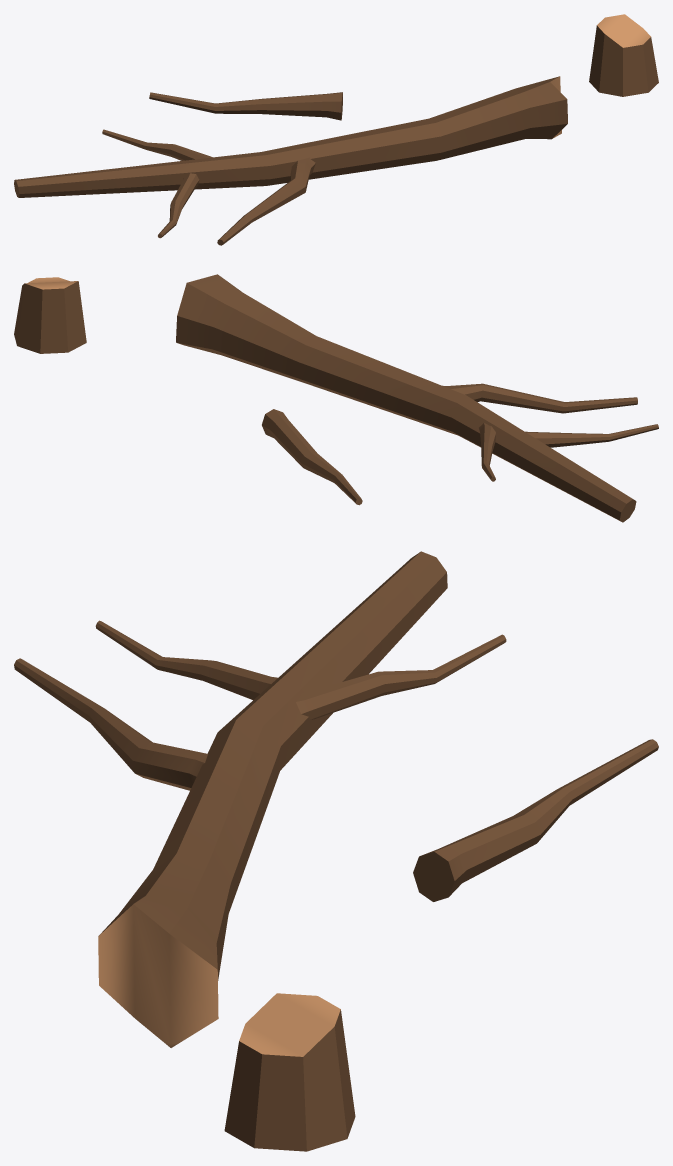
File: prop_deadtree_04.fbx
3 views of the same model, one above another, from view 1: azimuth 30°, elevation 25°; view 2: azimuth 150°, elevation 25°; view 3: azimuth 270°, elevation 25° (orthographic). The views are drawn at different scales.
Visible parts, largest first — view 1: prop_deadtree_04; view 2: prop_deadtree_04; view 3: prop_deadtree_04.
Boxes of the visible parts, box(x1,y1,x2,y2) form: prop_deadtree_04: box(14, 14, 658, 245); prop_deadtree_04: box(14, 274, 658, 522); prop_deadtree_04: box(14, 551, 658, 1151).
Size of the model in its own units: 542 by 54.94 by 260.
